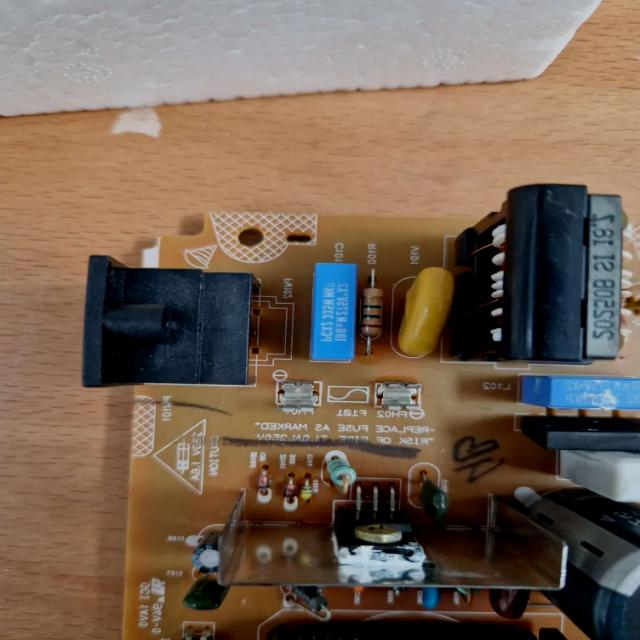C: (530, 486, 640, 640)
D: (360, 270, 384, 356), (415, 477, 449, 519), (626, 281, 640, 309), (302, 473, 314, 503), (258, 466, 270, 496), (284, 475, 297, 500)
E: (398, 266, 456, 356)
